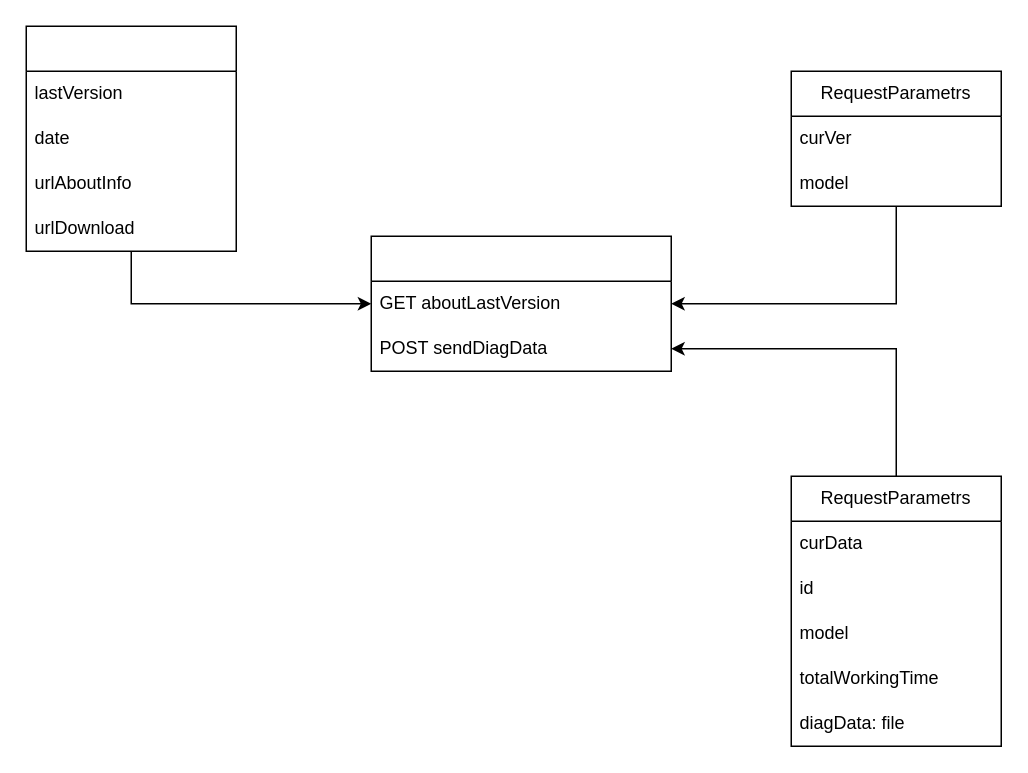
This 1028x773 diagram has some shape labels left out. Here are the shapes that lost their labels. From the top down, the box of each, then its label:
(25, 25, 236, 251): ResponseData
(370, 235, 671, 371): API_RobotCleanerDeveloper
